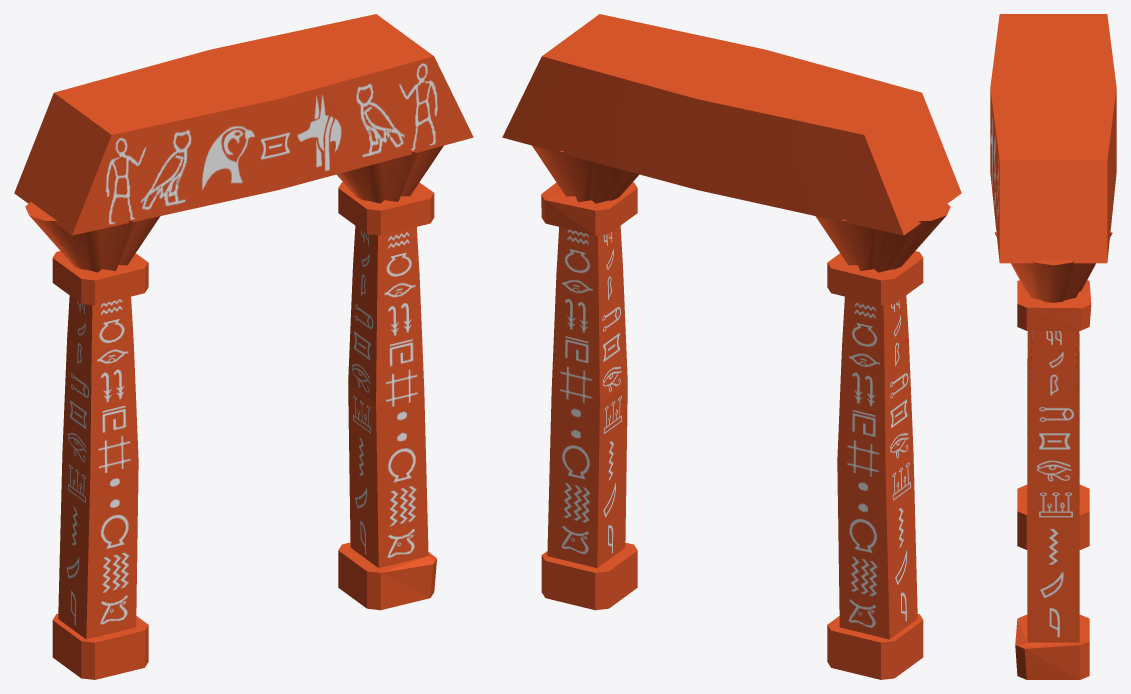
The model's file is Column.fbx.
3 renders of one model, left to right at view 1: azimuth 30°, elevation 25°; view 2: azimuth 150°, elevation 25°; view 3: azimuth 270°, elevation 25°, orthographic. The views are drawn at different scales.
Parts seen in each view (by area): view 1: pCube3, pCube1, pCube2, pCylinder1, pCylinder2; view 2: pCube3, pCube1, pCube2, pCylinder1, pCylinder2; view 3: pCube3, pCube2, pCylinder2, pCube1.
Part boxes in pixels (<box>): pCube3: <box>14,14,473,235</box>; pCube1: <box>52,251,148,679</box>; pCube2: <box>338,182,436,610</box>; pCylinder1: <box>25,201,160,272</box>; pCylinder2: <box>336,145,443,203</box>; pCube3: <box>502,14,961,235</box>; pCube1: <box>827,251,923,679</box>; pCube2: <box>541,182,637,610</box>; pCylinder1: <box>815,201,950,272</box>; pCylinder2: <box>532,145,639,203</box>; pCube3: <box>990,14,1116,263</box>; pCube2: <box>1015,280,1091,679</box>; pCylinder2: <box>994,232,1112,302</box>; pCube1: <box>1017,331,1089,549</box>.
Size of the model in its own units: 11.16 by 13.78 by 3.08.
3 materials, 3 textured.
